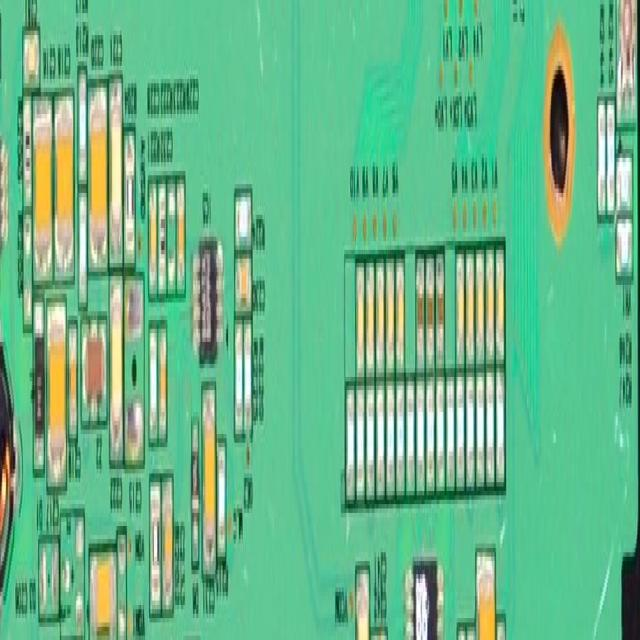IC: (200, 236, 216, 362), (414, 561, 437, 640), (0, 131, 1, 254)
capacitor: (32, 101, 54, 287), (46, 302, 67, 493), (88, 83, 110, 264), (54, 92, 74, 281), (202, 386, 216, 594), (108, 285, 124, 461), (109, 79, 123, 276), (89, 548, 116, 640), (476, 552, 496, 640), (162, 473, 174, 614), (39, 539, 59, 621), (385, 254, 395, 380), (68, 320, 78, 443), (176, 175, 186, 297), (148, 180, 158, 301), (375, 263, 385, 383), (355, 263, 365, 378), (495, 245, 505, 359), (22, 31, 40, 93), (365, 263, 374, 385), (235, 254, 252, 317), (456, 250, 465, 369), (356, 565, 370, 640), (395, 259, 404, 375), (486, 245, 494, 368), (160, 324, 168, 444), (466, 254, 475, 360), (476, 250, 484, 364), (466, 622, 475, 640), (457, 627, 466, 640), (370, 635, 386, 640), (0, 13, 1, 79)
resistor: (149, 482, 161, 619), (495, 368, 506, 493), (77, 61, 87, 190), (216, 442, 226, 568), (167, 175, 177, 294), (476, 373, 486, 492), (386, 382, 396, 501), (445, 372, 455, 490), (425, 377, 435, 494), (234, 324, 244, 440), (78, 197, 88, 310), (23, 210, 32, 332), (356, 390, 366, 499), (597, 96, 606, 216), (158, 180, 167, 300), (149, 324, 158, 444), (406, 377, 415, 496), (234, 193, 252, 252), (346, 386, 355, 504), (465, 372, 474, 488), (436, 381, 445, 494), (616, 224, 634, 280), (396, 386, 405, 496), (486, 368, 494, 488), (456, 372, 464, 492), (376, 377, 384, 497), (366, 381, 374, 498), (244, 324, 252, 440), (416, 377, 424, 493), (616, 153, 632, 210), (24, 96, 32, 209), (607, 96, 614, 217)
